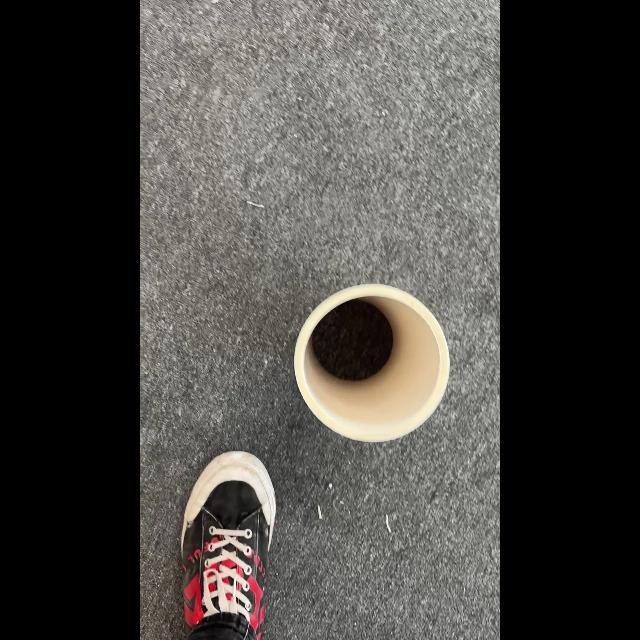CORAL: (294, 282, 451, 442)
